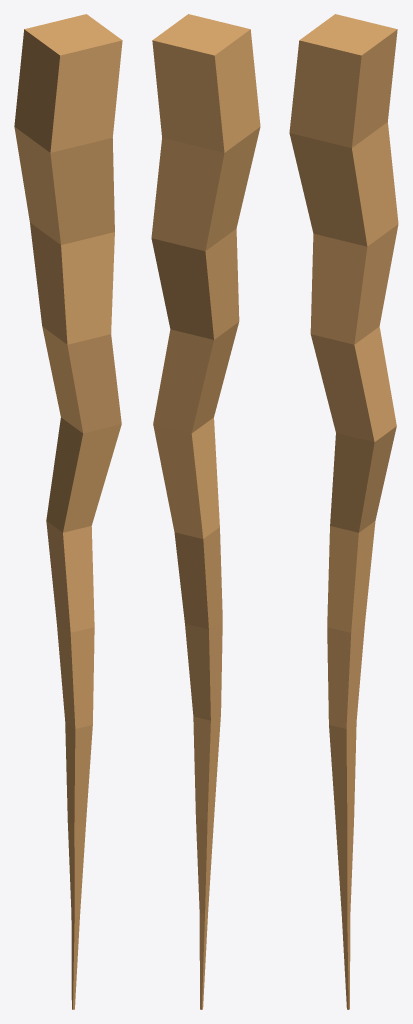
The model's file is branch_10seg.fbx.
The picture shows the model from 3 angles, left to right: view 1: azimuth 30°, elevation 25°; view 2: azimuth 150°, elevation 25°; view 3: azimuth 330°, elevation 25°; orthographic projection.
Parts seen in each view (by area): view 1: branch_10seg; view 2: branch_10seg; view 3: branch_10seg.
Part boxes in pixels (left/top/right/bottom): branch_10seg: left=14, top=14, right=122, bottom=1009; branch_10seg: left=151, top=14, right=260, bottom=1009; branch_10seg: left=289, top=14, right=398, bottom=1009.
Size of the model in its own units: 249 by 2967 by 209.
